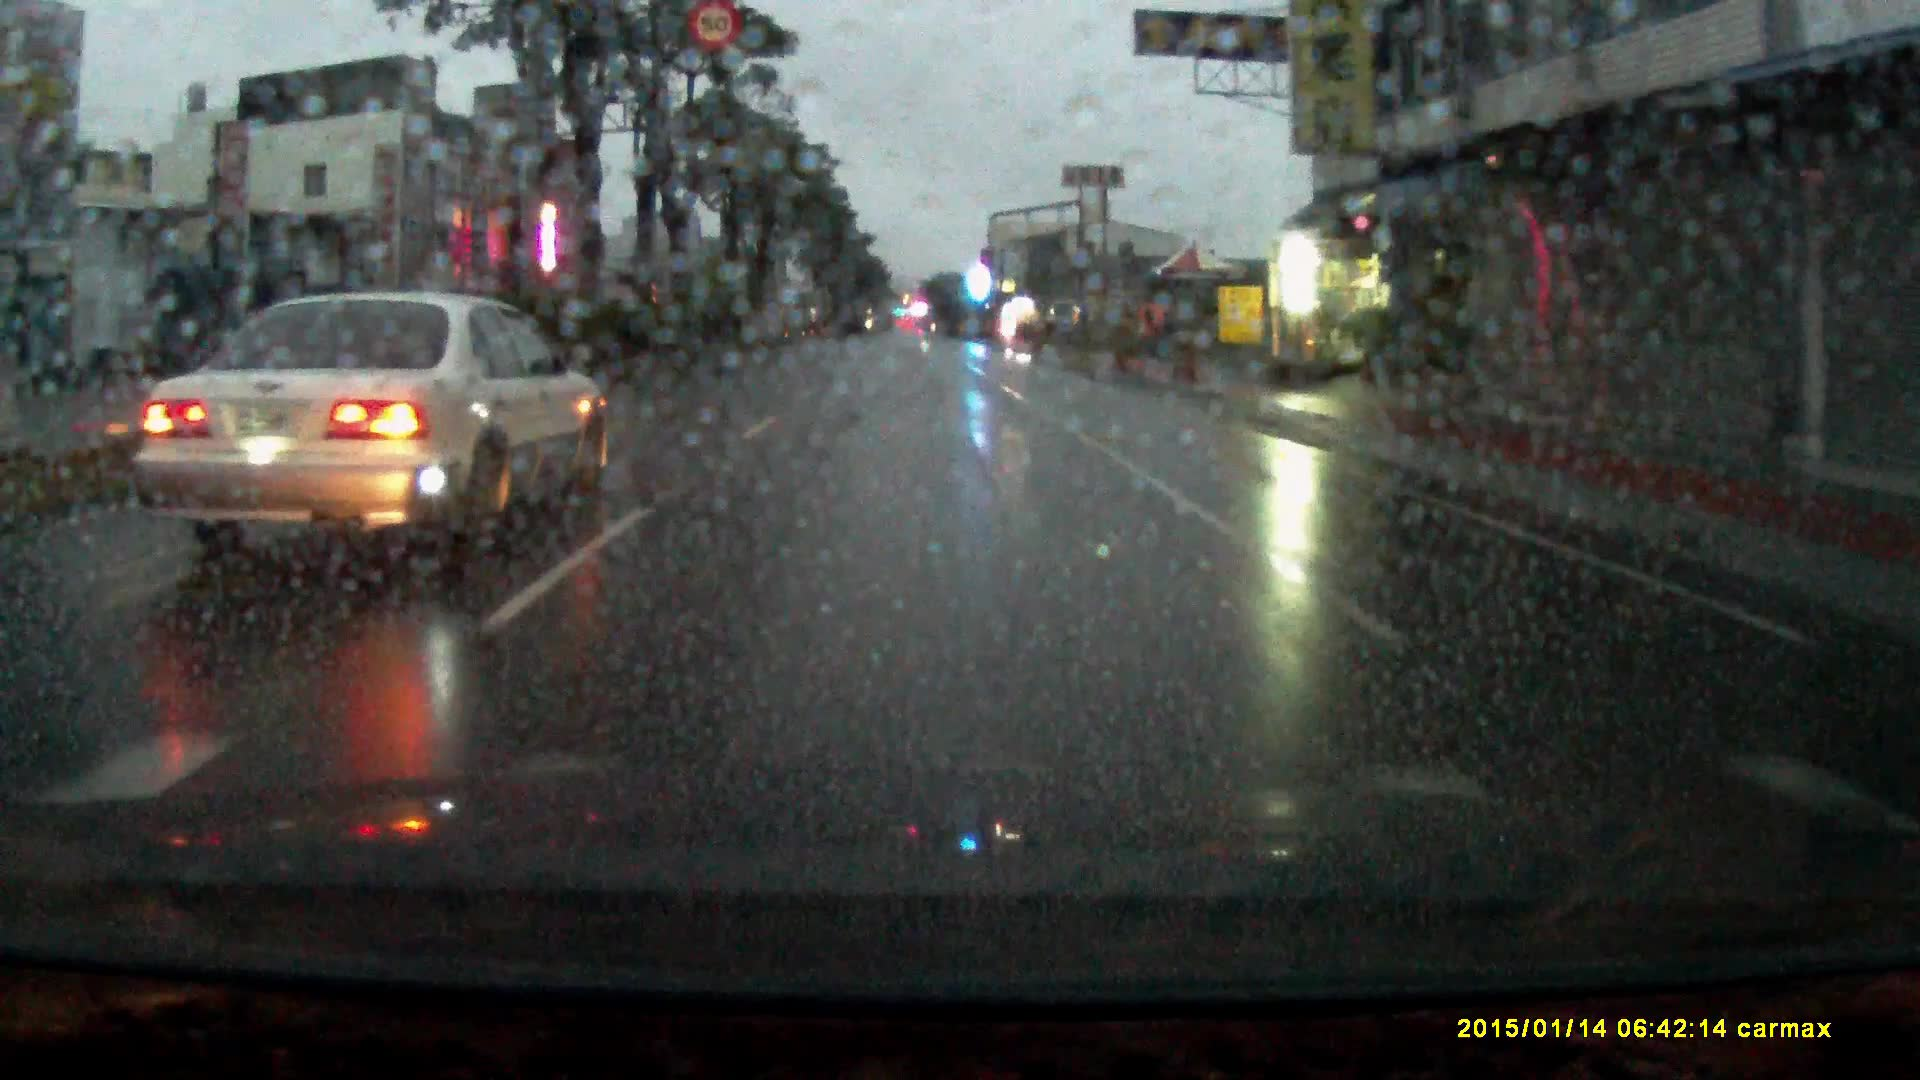vehicle: (135, 289, 613, 567)
